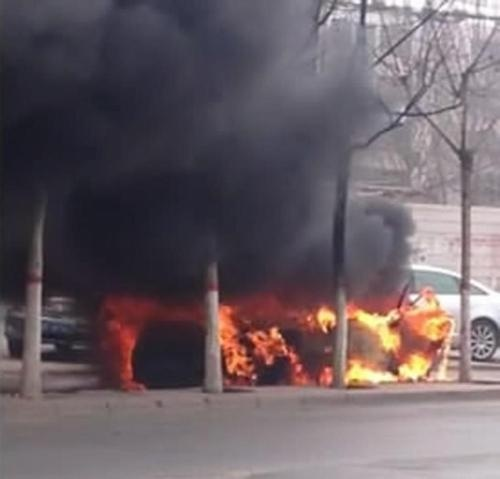fire: (331, 287, 453, 384), (217, 297, 323, 386)
